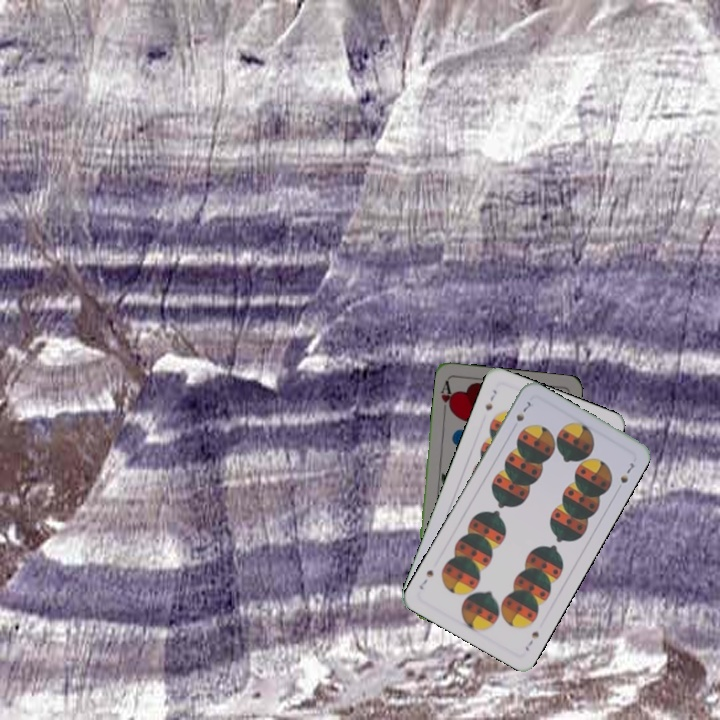HA: (437, 376, 456, 417)
S7: (512, 397, 536, 424), (521, 627, 542, 654), (481, 386, 499, 413)
